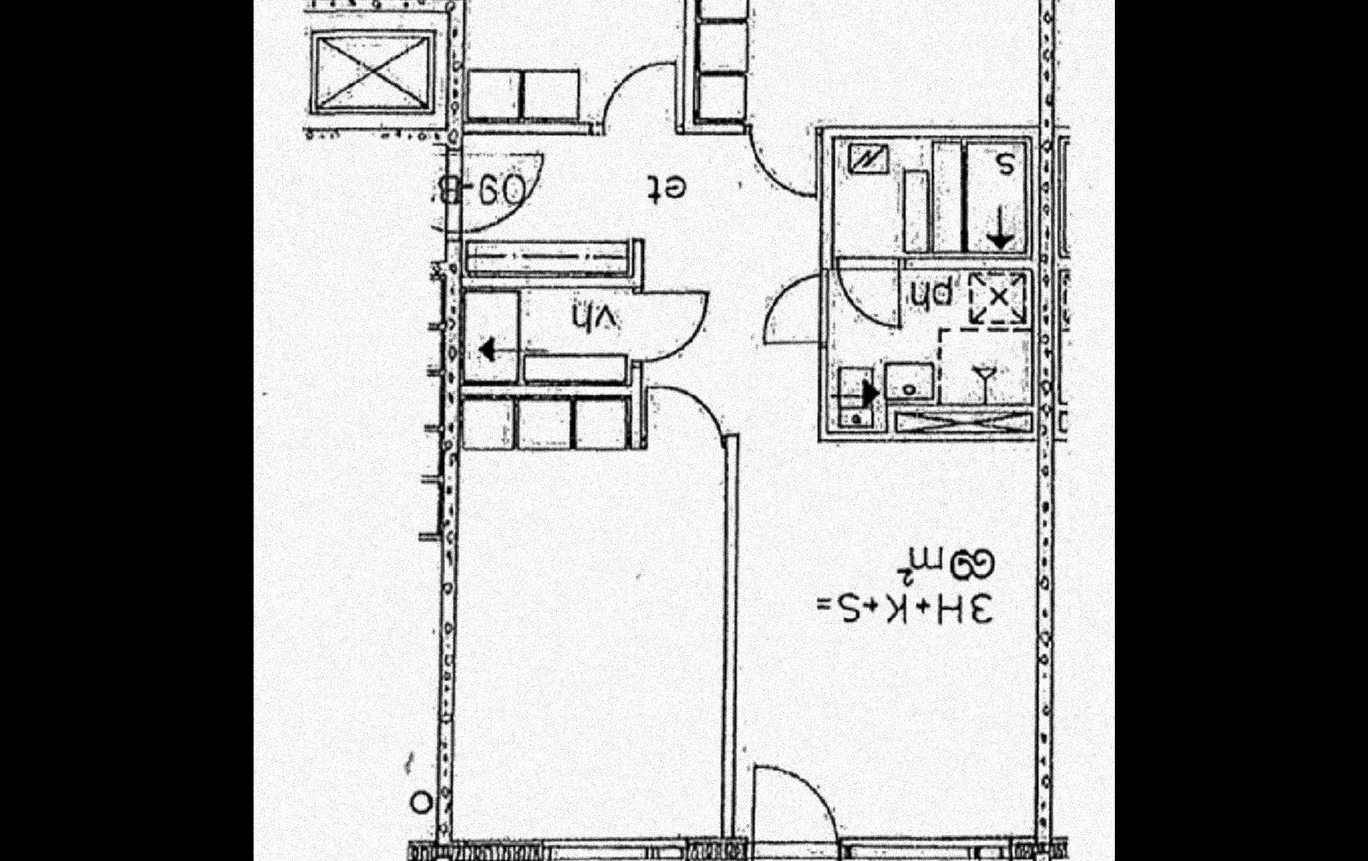door: (430, 149, 549, 242), (744, 768, 842, 861), (600, 54, 682, 143), (636, 288, 709, 371), (760, 280, 832, 356), (646, 387, 724, 453), (748, 125, 811, 201), (843, 257, 900, 335)
window: (838, 835, 1015, 861), (543, 836, 687, 861)
zone: (452, 132, 1041, 838), (823, 137, 1038, 435), (301, 0, 687, 125), (692, 0, 1043, 127)
